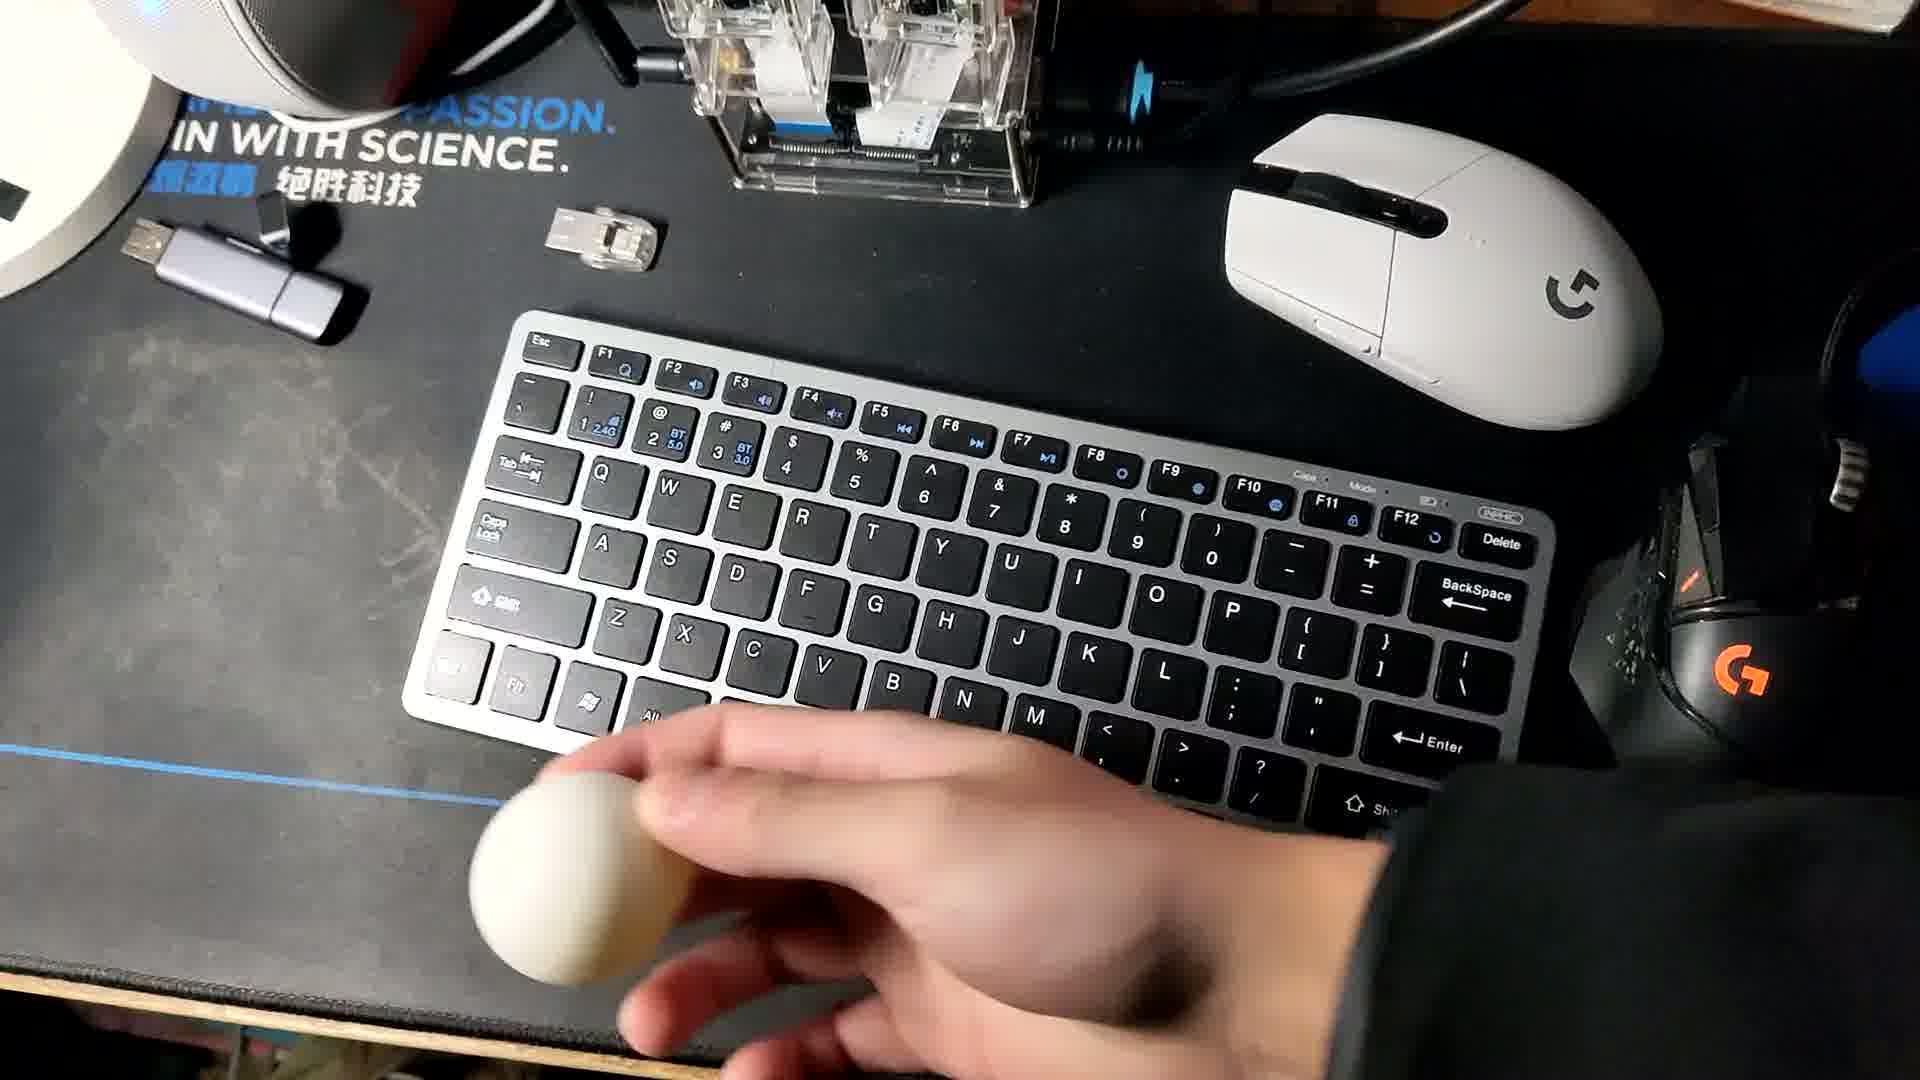Ball: (458, 764, 694, 994)
